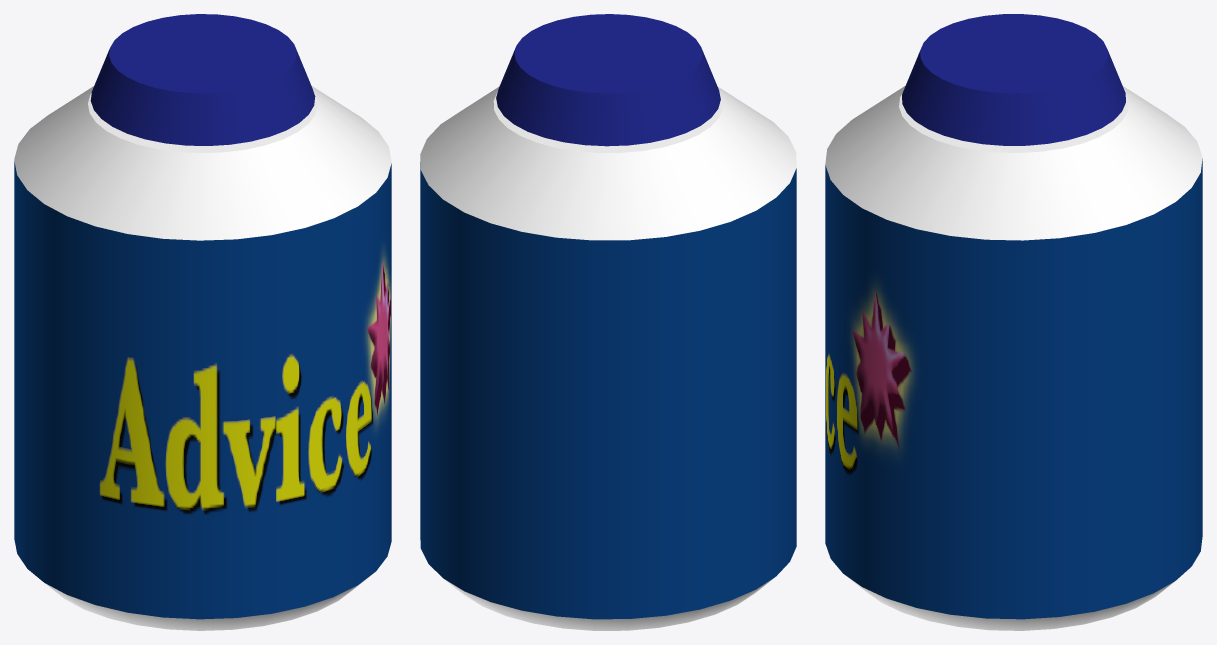
Rendered from advice.gltf.
3 views of the same model, side by side, from view 1: azimuth 30°, elevation 25°; view 2: azimuth 150°, elevation 25°; view 3: azimuth 270°, elevation 25° (orthographic).
Visible parts, largest first — view 1: Cylinder, Cylinder.001; view 2: Cylinder, Cylinder.001; view 3: Cylinder, Cylinder.001.
Boxes of the visible parts, x1,y1,x2,y2 form: Cylinder: (14,86,391,630); Cylinder.001: (90,14,315,145); Cylinder: (420,86,796,630); Cylinder.001: (496,14,720,146); Cylinder: (825,86,1202,630); Cylinder.001: (902,14,1125,145).
Bounding box in the file's own units: 0.9988 × 1.48 × 0.9988.
3 materials, 1 textured.
